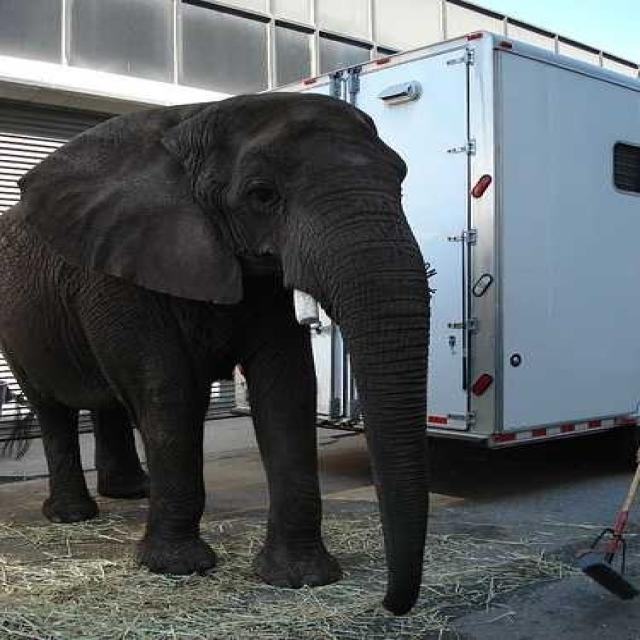Elephant: (0, 89, 433, 614)
